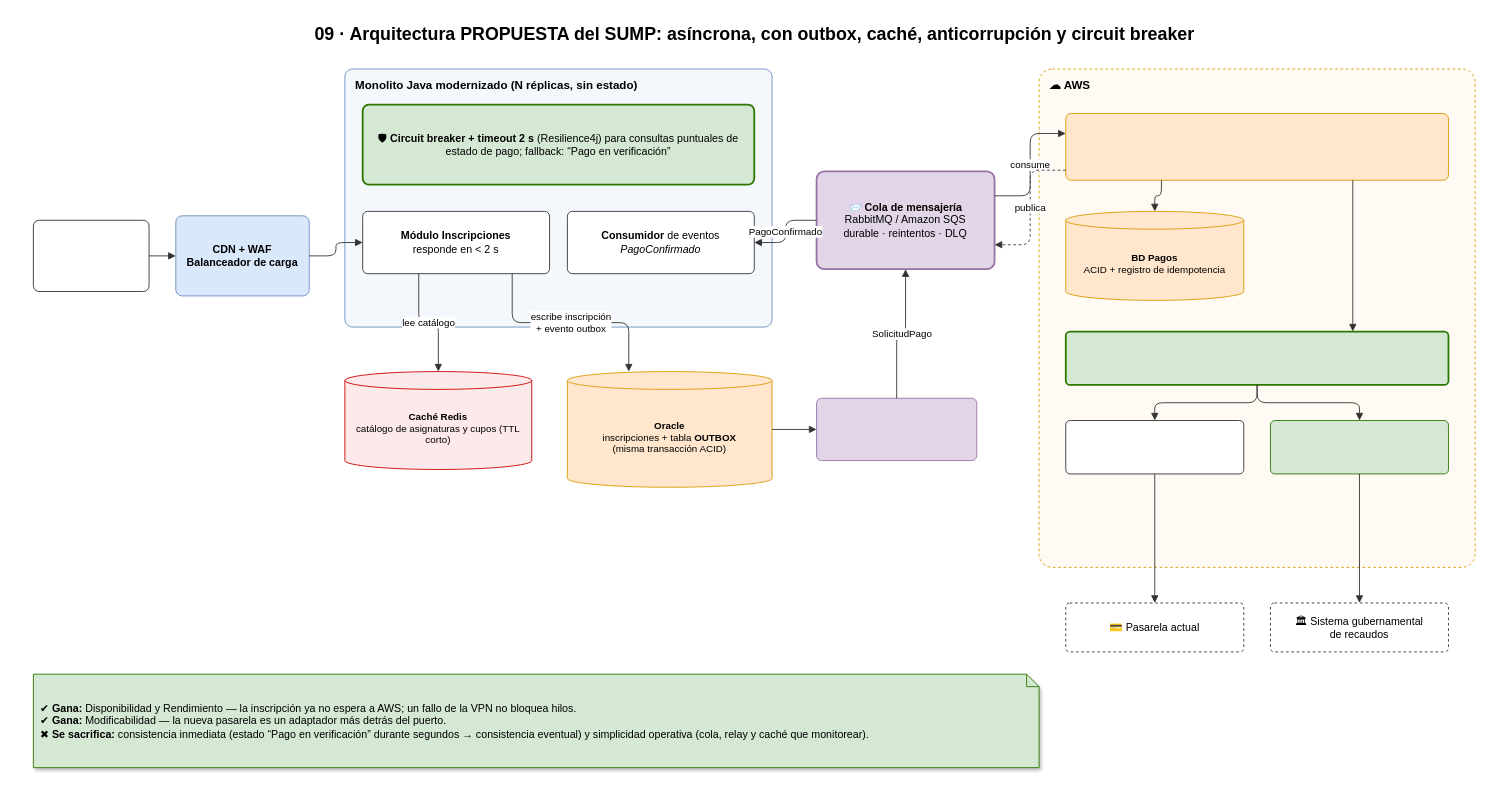
Image size: 1508x789. Some labels were removed from this diagram. Each missing label, with the centre of its shape:
Adaptador pasarela actual: (1154,447)
Adaptador Recaudo Gubernamental (nuevo): (1359,447)
Relay Outbox / CDC (p. ej. Debezium): (896,429)
Servicio de Pagos (Node.js) consumidor idempotente (clave = id de matrícula): (1256,146)
«interfaz» PuertoPasarelaPago capa anticorrupción: (1256,357)
👥 20.000 estudiantes: (90,255)
